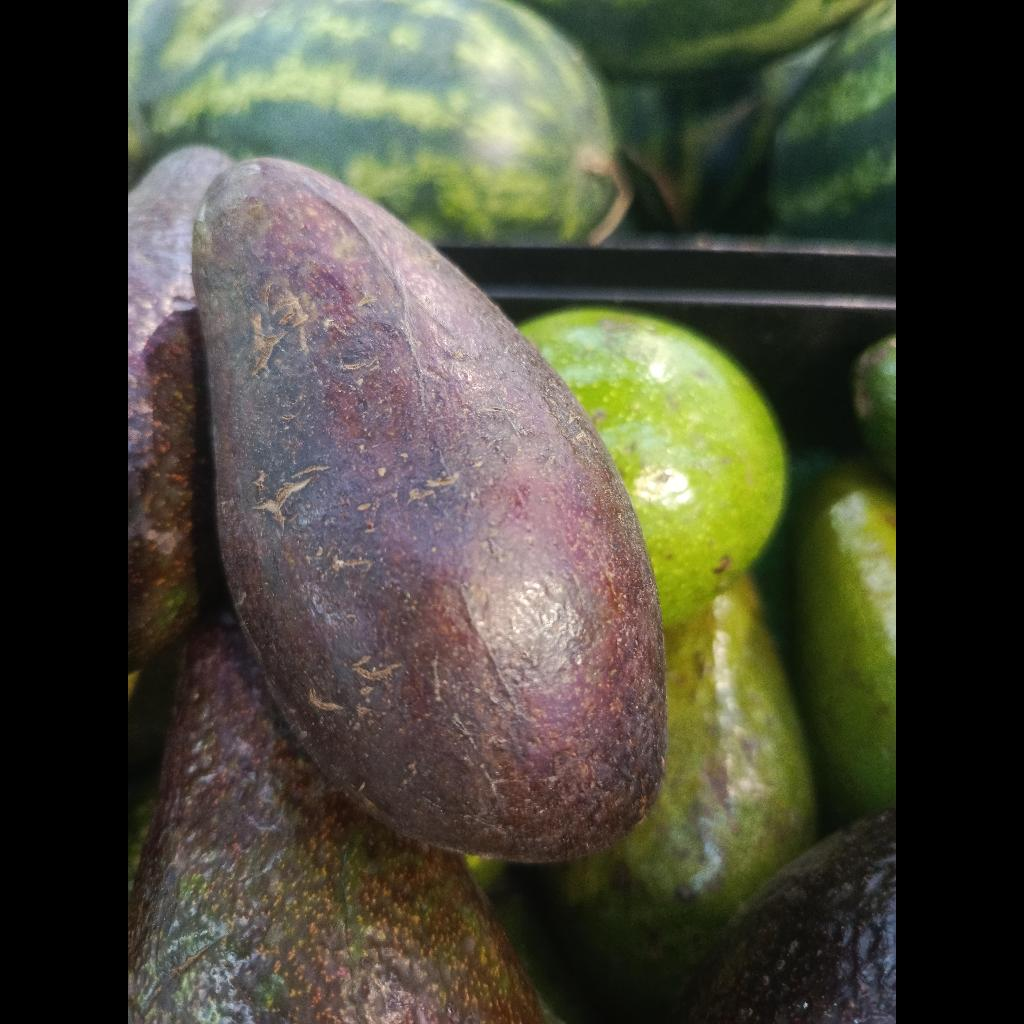anthracnose: (193, 158, 666, 861)
healthy: (128, 612, 543, 1024)
